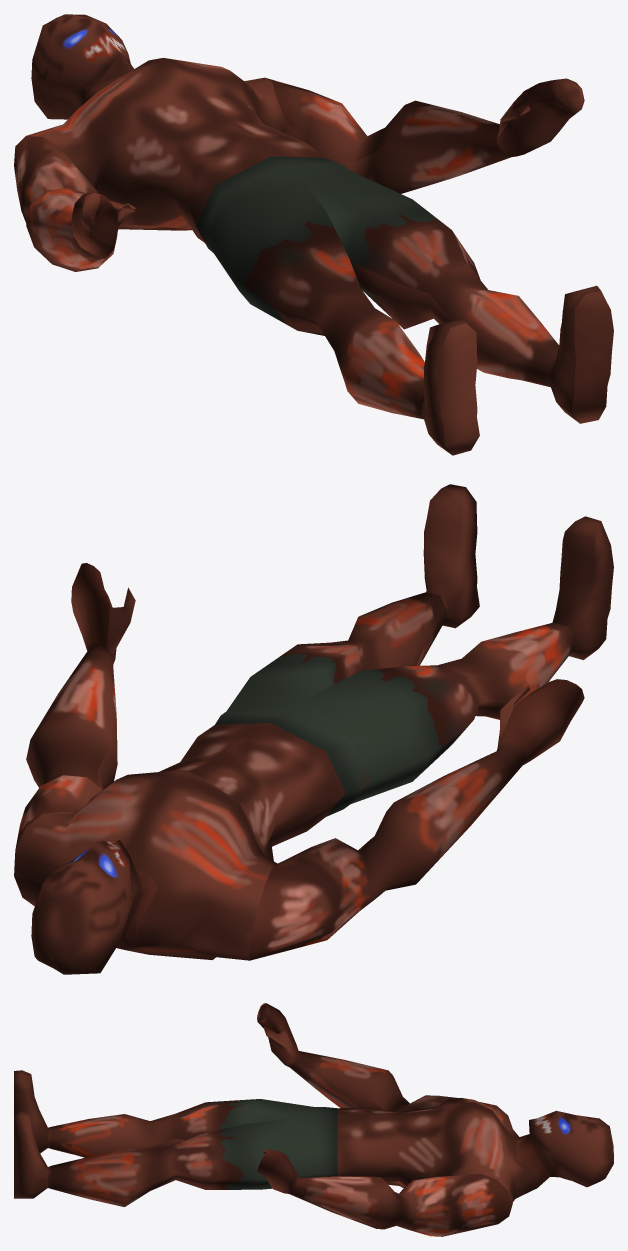
The model's file is Zombie_Heavy_Walk.fbx.
3 views of the same model, one above another, from view 1: azimuth 30°, elevation 25°; view 2: azimuth 150°, elevation 25°; view 3: azimuth 270°, elevation 25° (orthographic). The views are drawn at different scales.
Parts seen in each view (by area): view 1: Enemy_Zombie_Heavy; view 2: Enemy_Zombie_Heavy; view 3: Enemy_Zombie_Heavy.
Part boxes in pixels (x1=…): Enemy_Zombie_Heavy: x1=14, y1=14, x2=613, y2=455; Enemy_Zombie_Heavy: x1=14, y1=484, x2=613, y2=974; Enemy_Zombie_Heavy: x1=14, y1=1003, x2=613, y2=1236.
Size of the model in its own units: 1.6 by 2.61 by 0.6277.
1 material, 1 textured.
